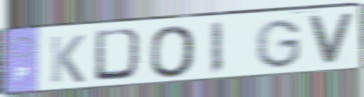D: (92, 27, 148, 83)
G: (253, 18, 304, 70)
I: (208, 20, 225, 77)
K: (48, 33, 86, 85)
O: (148, 23, 197, 80)
V: (305, 12, 357, 68)
